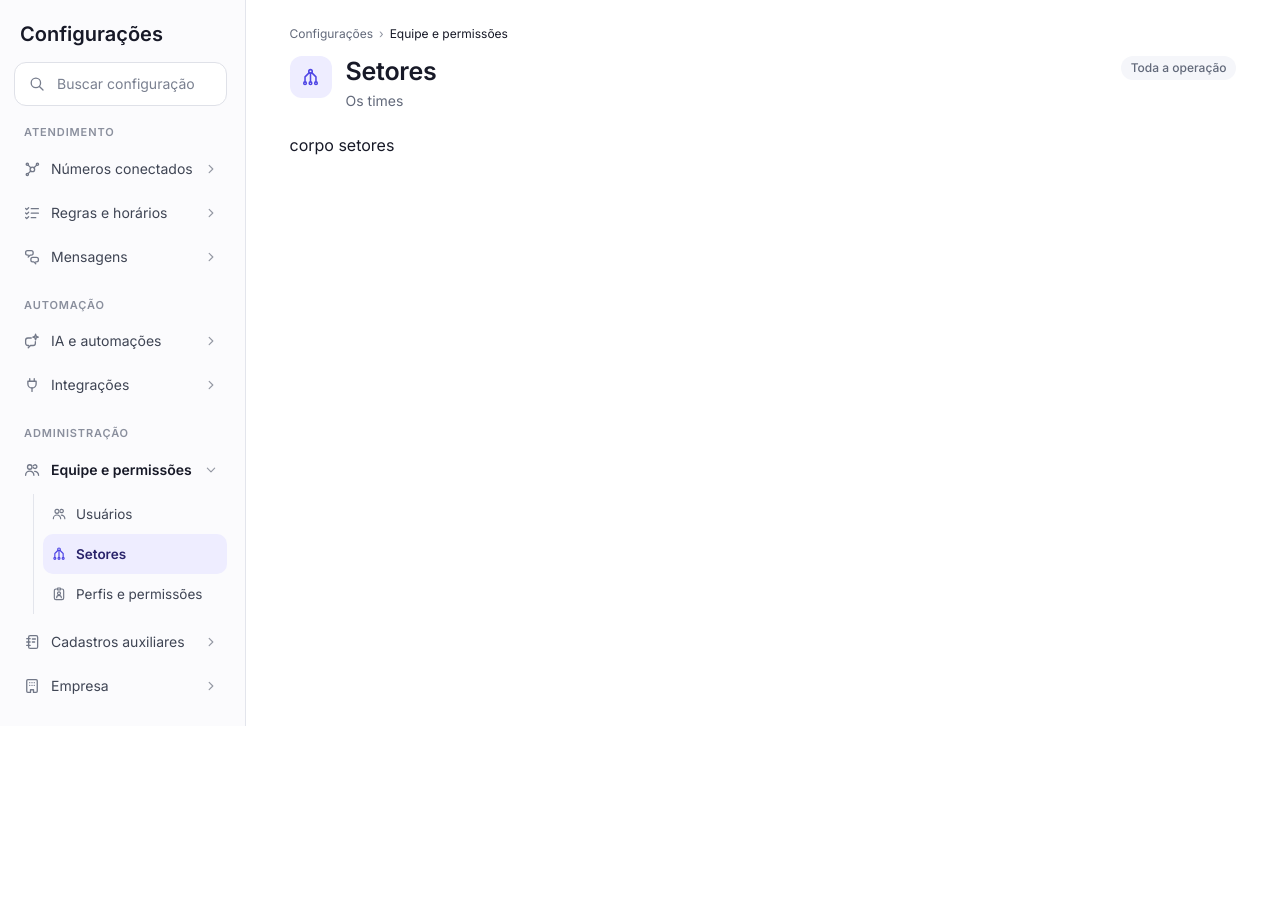
Scenario: SettingsLayout: diretório › abrir outro grupo fecha o anterior; trocar de página volta ao grupo da página
Click the button "Cadastros auxiliares" at (120, 642), box [14,620,227,664]
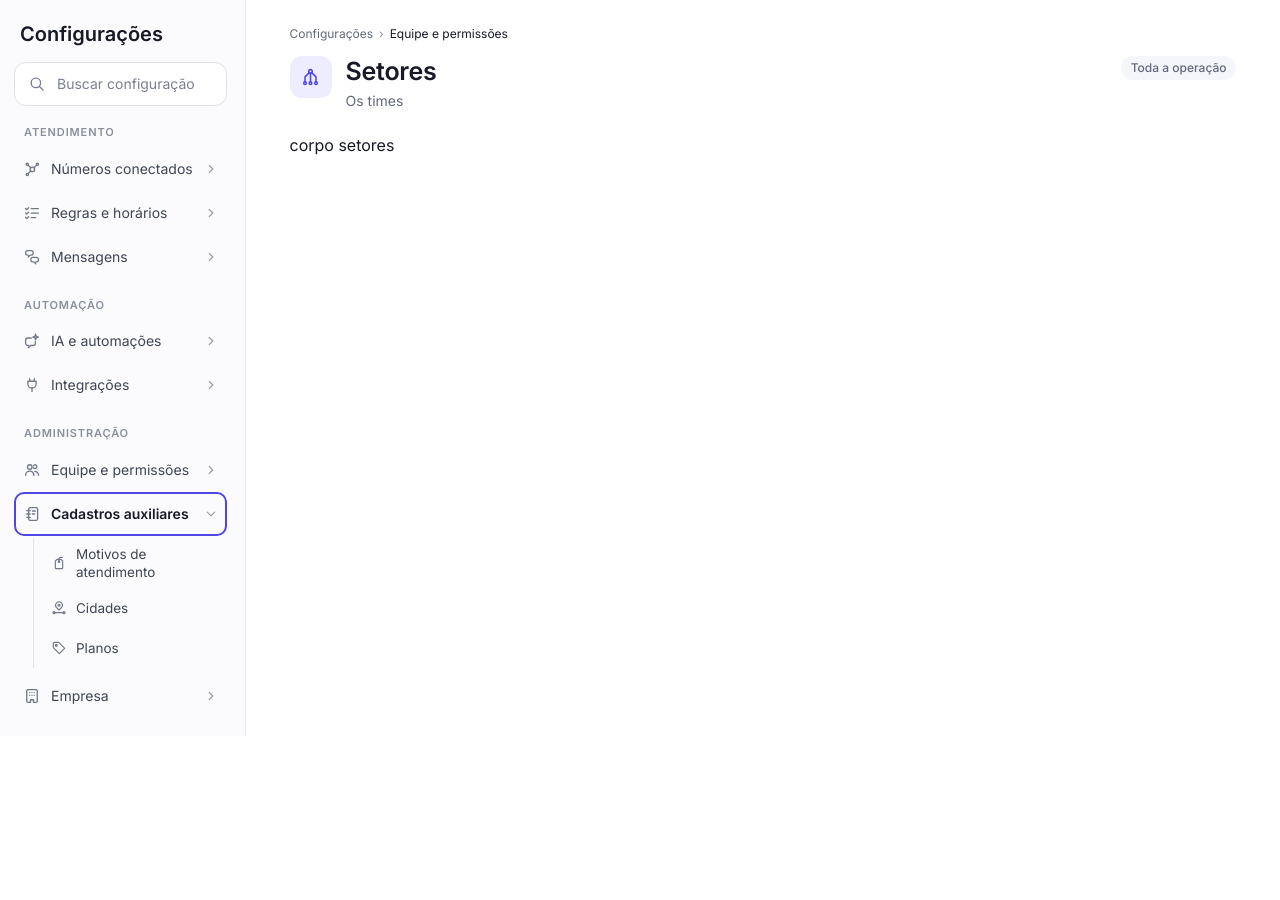
Expected: the button "Cadastros auxiliares" is expanded, [14,492,227,536]
Expected: the button "Equipe e permissões" is collapsed, [14,448,227,492]
Click the link "Cidades" at (90, 608), box [51,600,128,616]
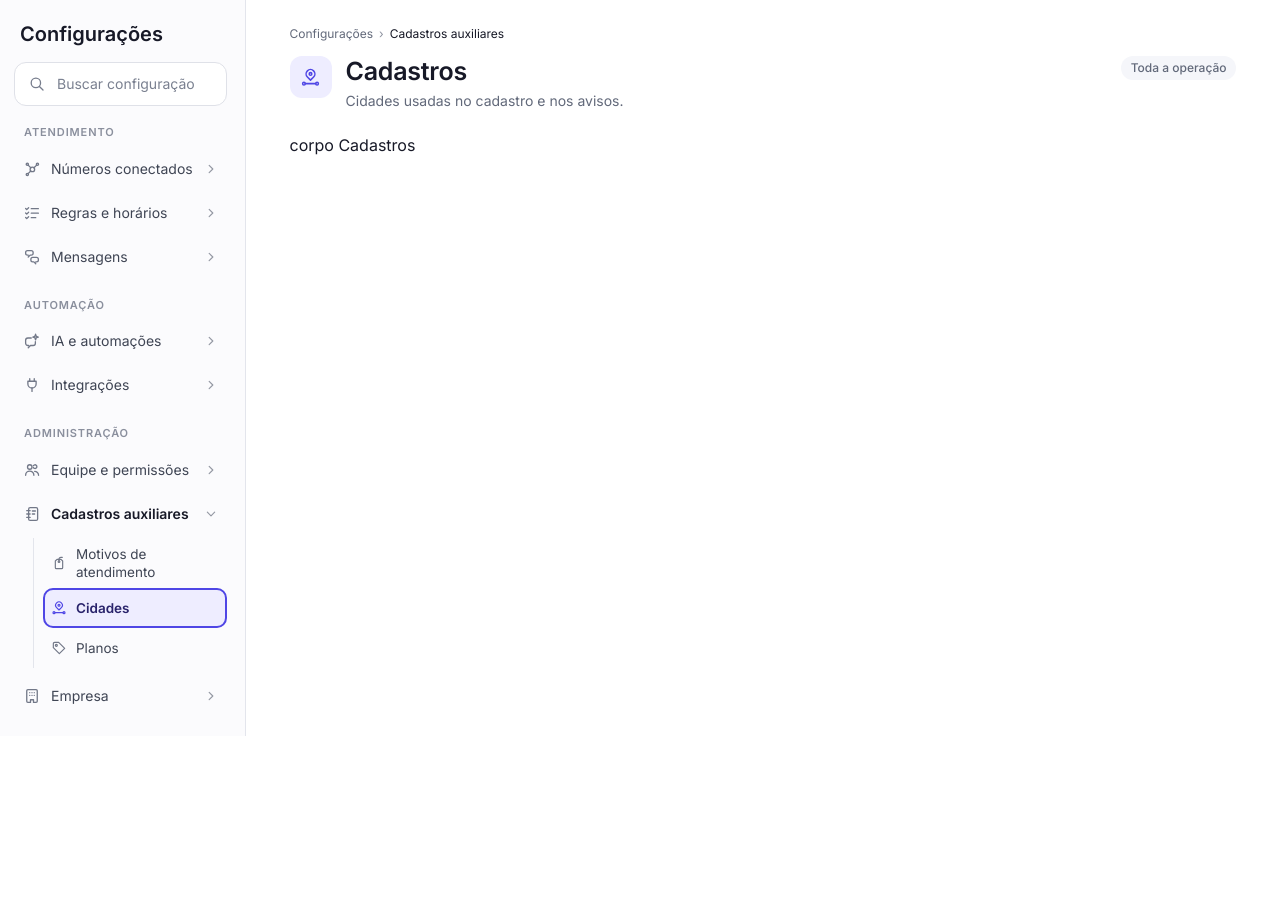
Expected: the text "corpo Cadastros" is shown, [290,135,415,155]
